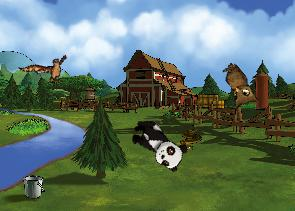eagle: (18, 42, 77, 97)
owl: (211, 60, 262, 114)
panda: (124, 114, 191, 174)
